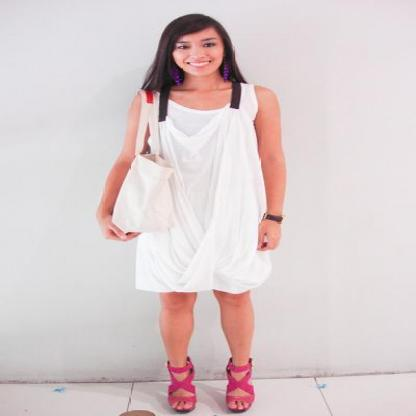dress: (129, 86, 270, 293)
shoe: (168, 358, 252, 393)
